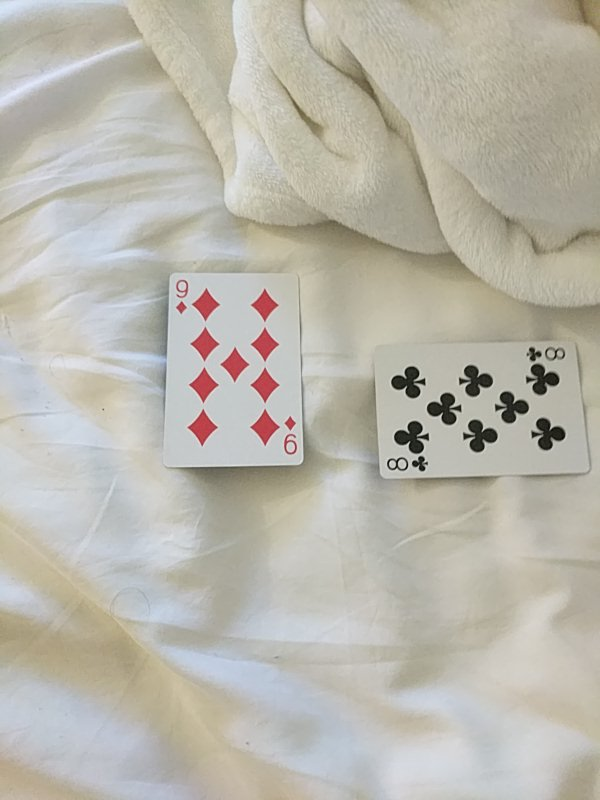Clubs: (374, 338, 591, 480)
Diamonds: (164, 271, 307, 465)
